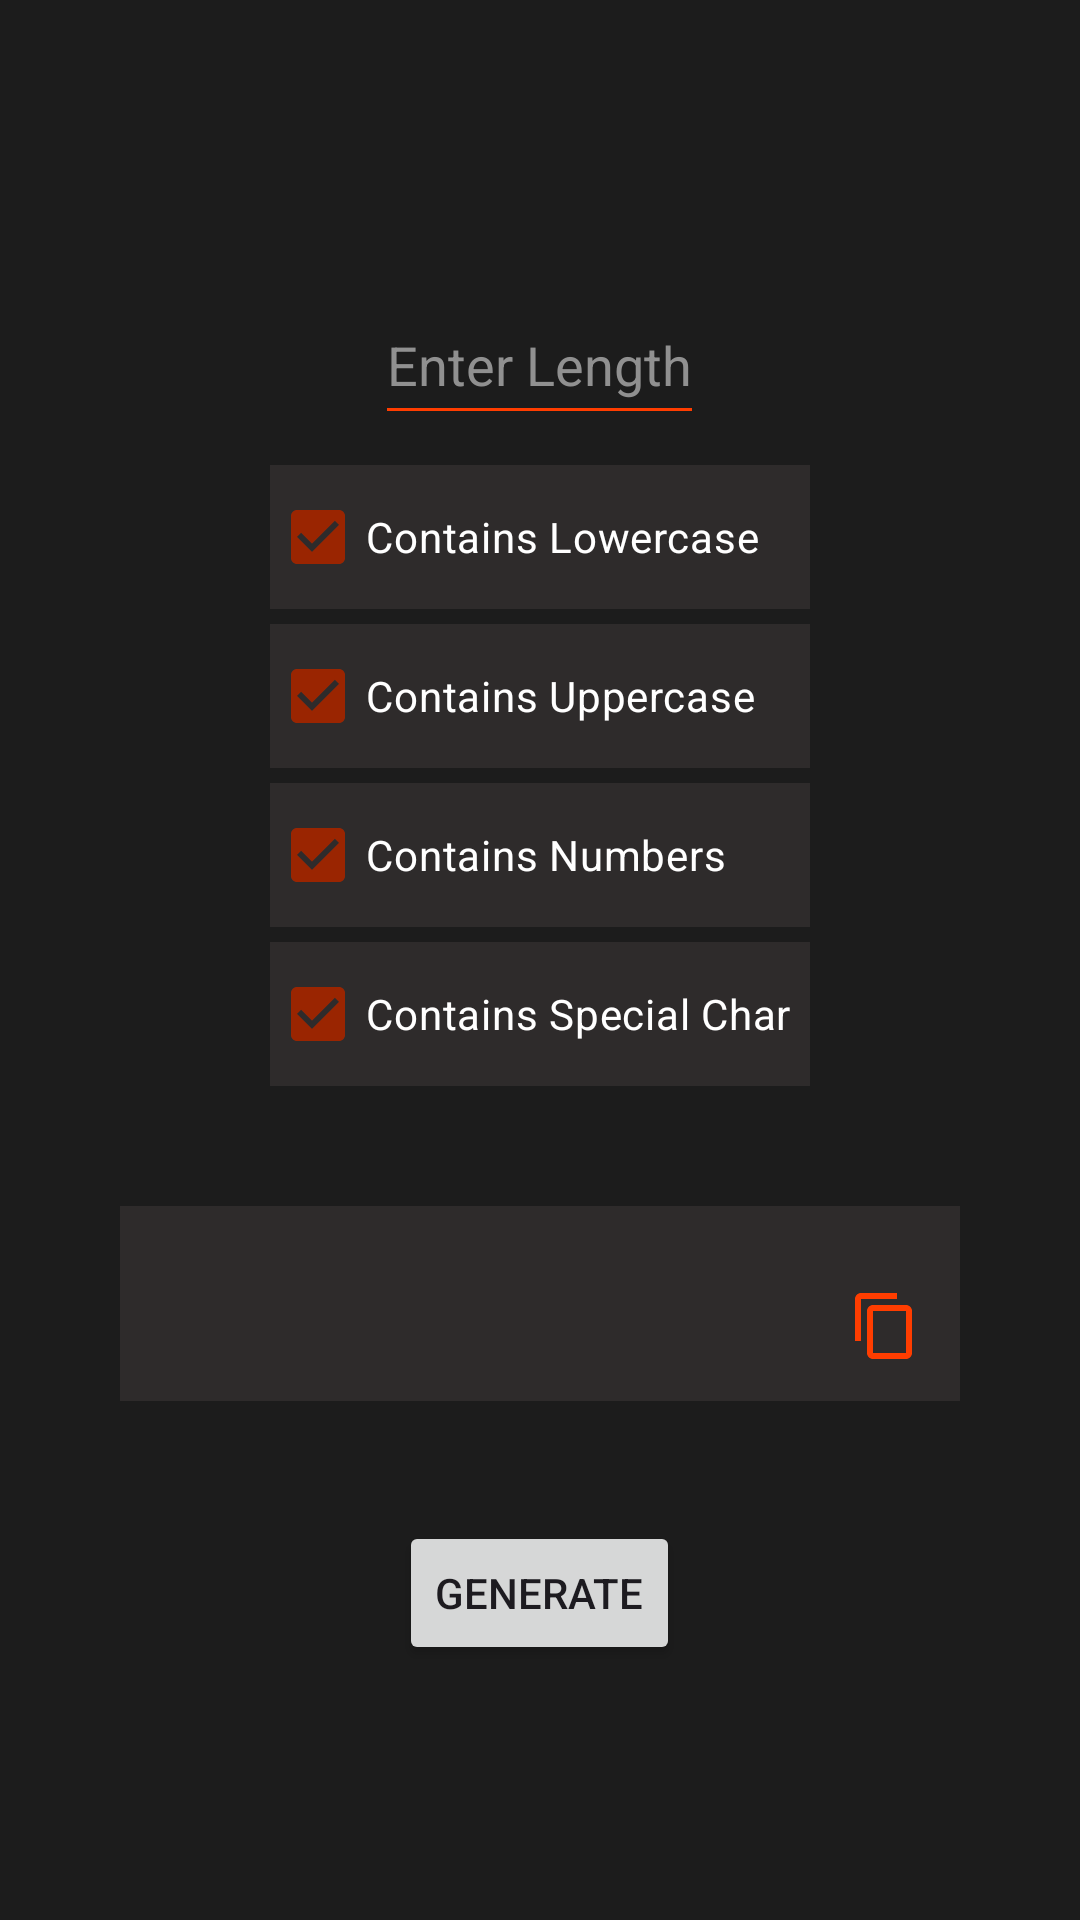

Where icons sit on this 1080 x 1920 app screen, as [x1, y1, x2, y2]:
Username copy button: [855, 1293, 912, 1359]
